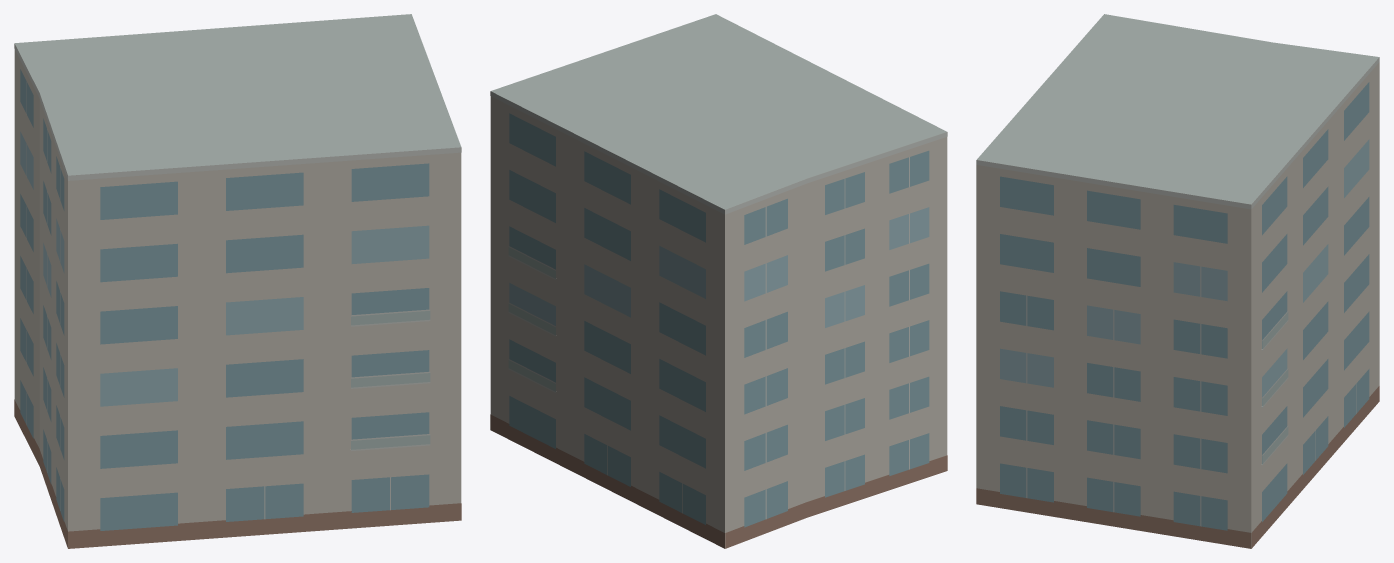
File: survey-upis-32950217.glb
3 renders of one model, left to right at view 1: azimuth 30°, elevation 25°; view 2: azimuth 150°, elevation 25°; view 3: azimuth 270°, elevation 25°, orthographic. The views are drawn at different scales.
Visible parts, largest first — view 1: survey-upis-32950217.tmp; view 2: survey-upis-32950217.tmp; view 3: survey-upis-32950217.tmp.
Boxes of the visible parts, <box> form: survey-upis-32950217.tmp: <box>14,14,461,548</box>; survey-upis-32950217.tmp: <box>490,14,947,548</box>; survey-upis-32950217.tmp: <box>976,14,1379,548</box>.
Size of the model in its own units: 20.55 by 17.3 by 18.37.
